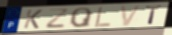K: (23, 9, 44, 30)
L: (94, 6, 113, 28)
Q: (69, 7, 93, 29)
T: (145, 5, 163, 25)
V: (119, 5, 142, 27)
Z: (44, 8, 70, 29)
